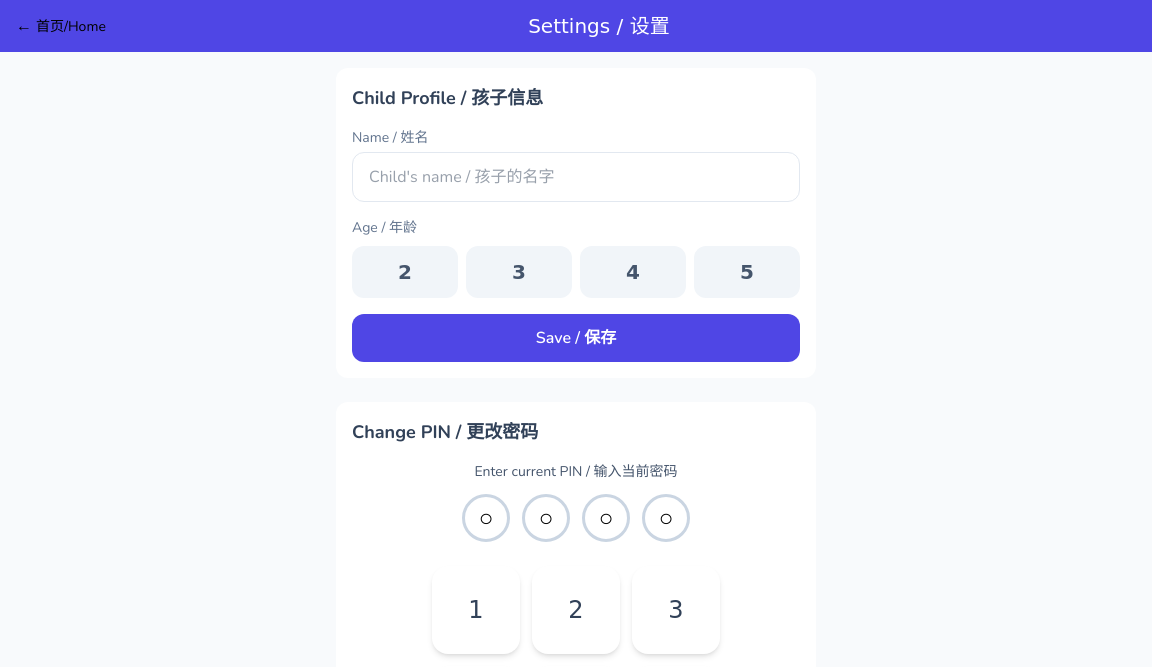
Scenario: ParentSettings › shows saved confirmation after saving
Expected: the field with placeholder "Child's name / 孩子的名字" is shown, [352,152,800,202]
Click the button "Save / 保存". click: coordinates (576, 338)
box: [352,314,800,362]
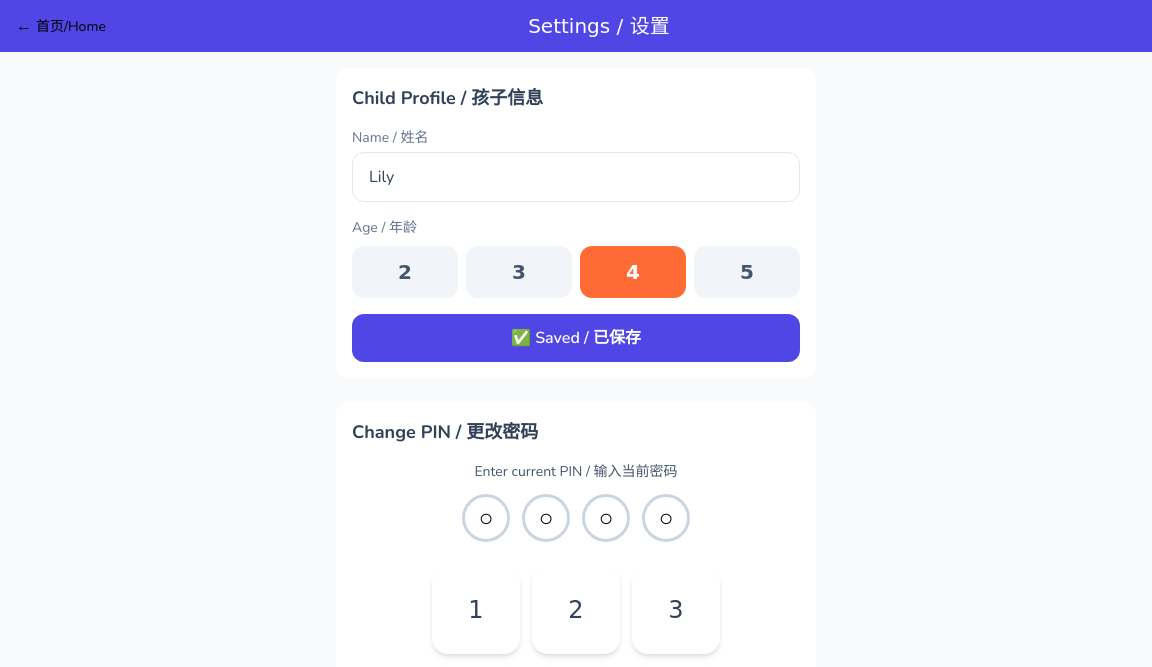
Expected: the button "✅ Saved / 已保存" is shown, [352,314,800,362]
